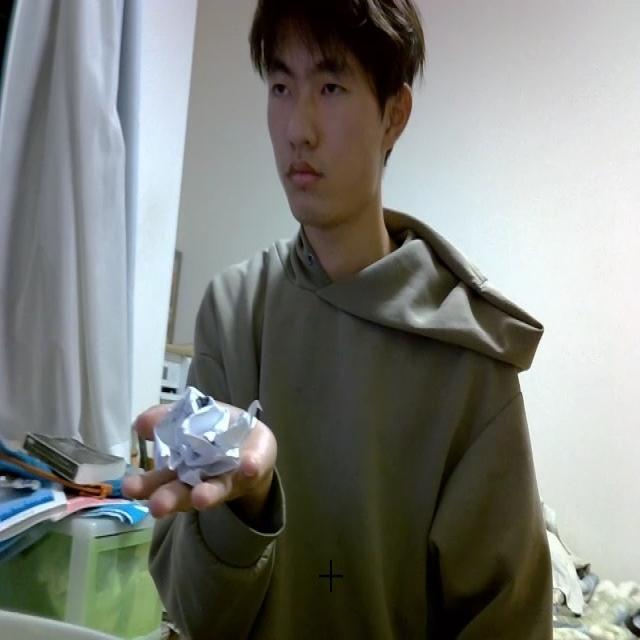paper: (151, 384, 260, 487)
